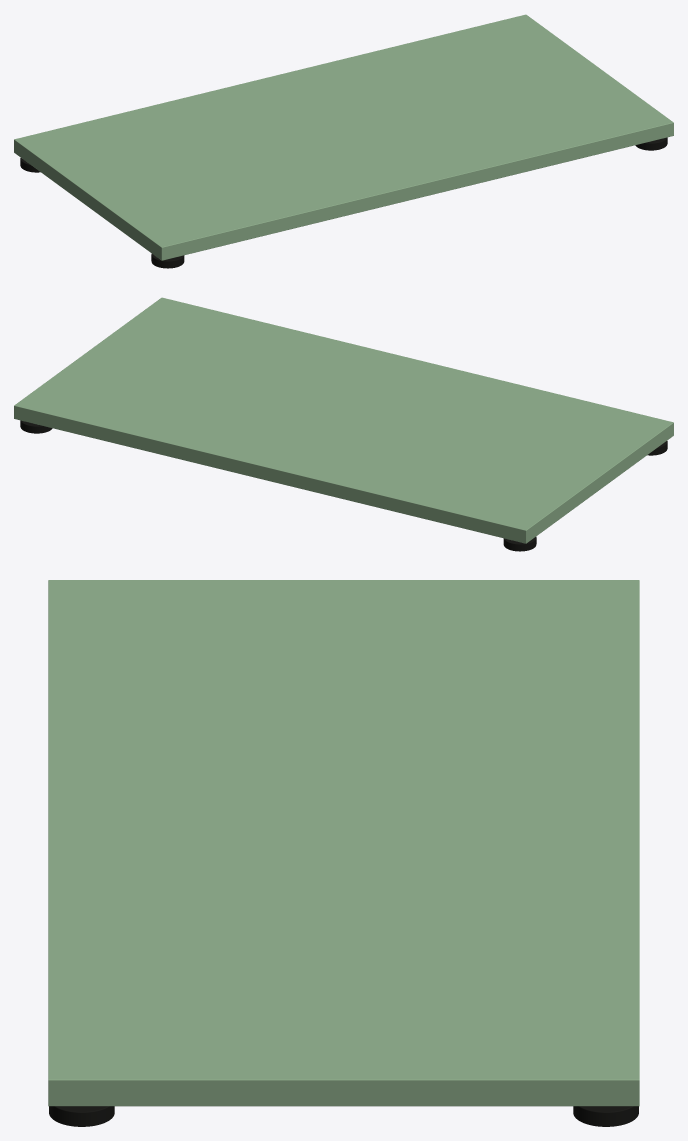
Rendered from PLT-2X1-SA.glb.
3 renders of one model, top to bottom at view 1: azimuth 30°, elevation 25°; view 2: azimuth 150°, elevation 25°; view 3: azimuth 270°, elevation 25°, orthographic. The views are drawn at different scales.
Size of the model in its own units: 720 by 32 by 360.
